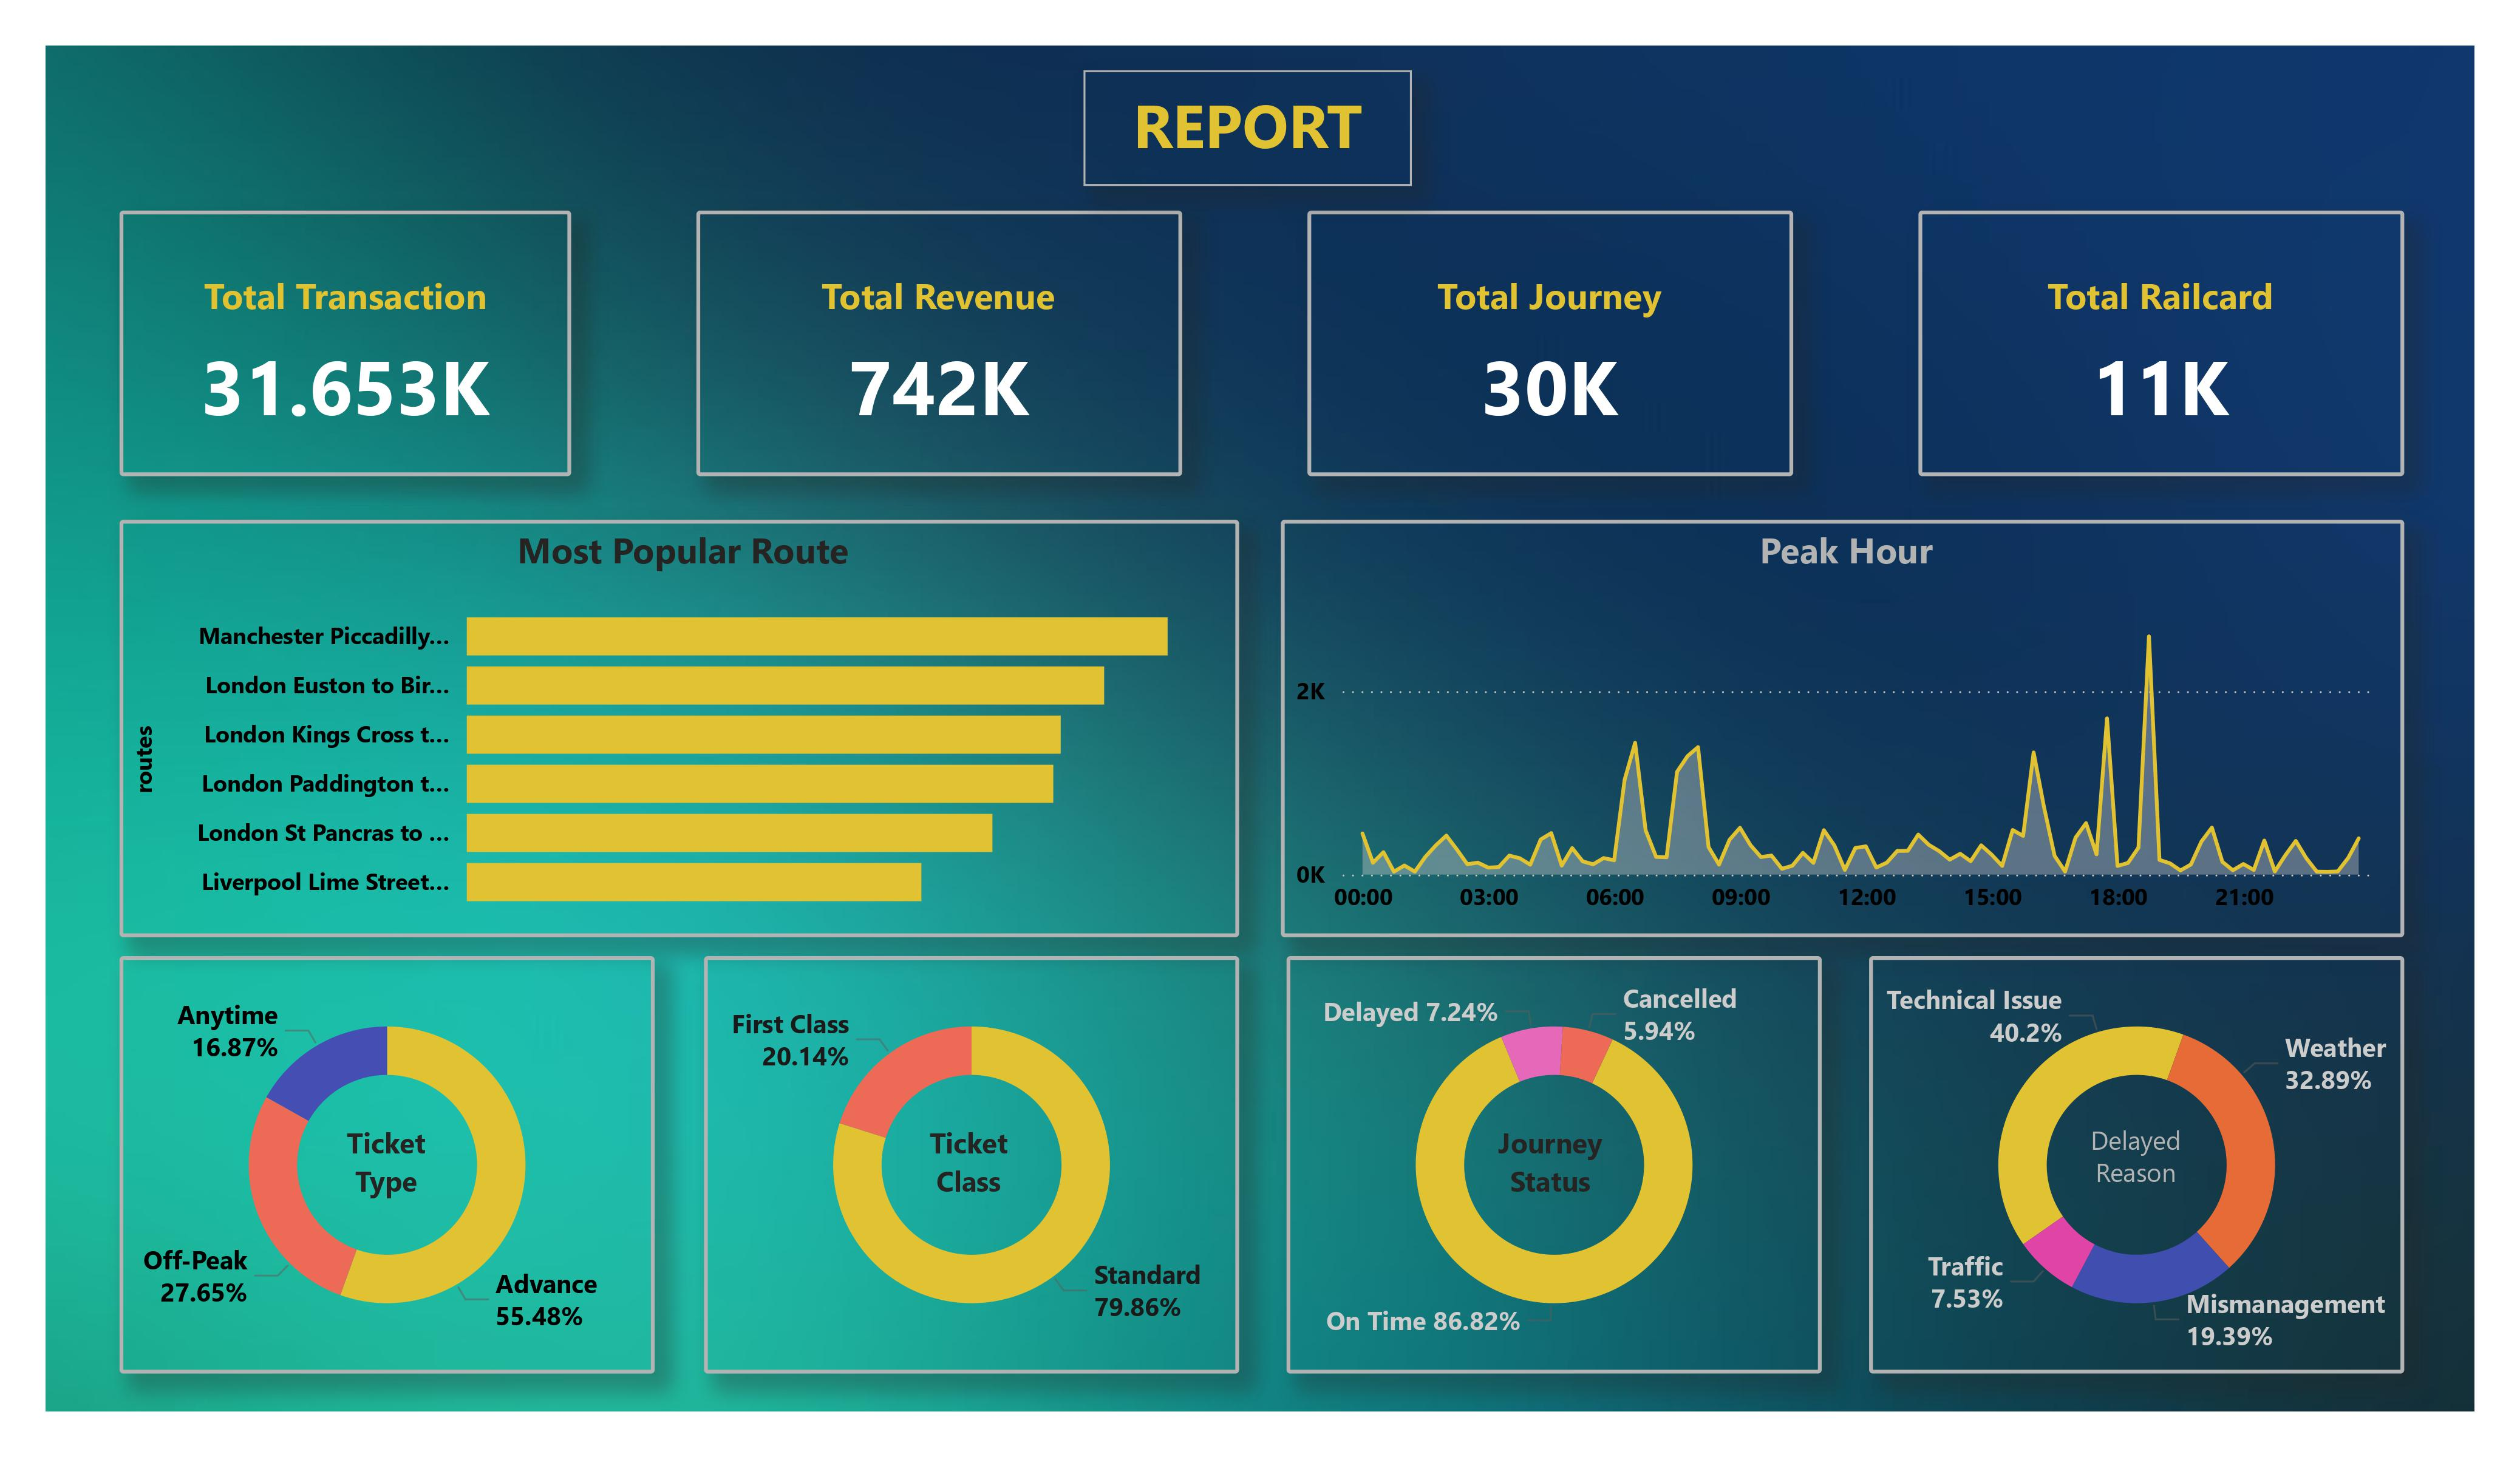

This screenshot's page, from the dashboard's own definition file:
{"tool":"powerbi","page":{"name":"Page 2","canvas":[1280,720],"ordinal":0},"visuals":[{"type":"cardVisual","fields":{"Data":["CountNonNull(railway.Journey_Status)"]},"box":[38.6,87.1,238.6,140],"z":0},{"type":"cardVisual","fields":{"Data":["Sum(railway.Price)"]},"box":[343.3,87.1,255.7,140],"z":1},{"type":"cardVisual","fields":{"Data":["railway.status"]},"box":[665.2,87.1,255.7,140],"z":2},{"type":"cardVisual","fields":{"Data":["railway.rail"]},"box":[987.1,87.1,255.7,140],"z":3},{"type":"clusteredBarChart","title":"Most Popular Route","fields":{"Category":["railway.routes"],"Y":["CountNonNull(railway.Transaction_ID)"]},"box":[38.6,250,590,220],"z":4},{"type":"areaChart","title":"Peak Hour","fields":{"Category":["railway.Departure_Time"],"Y":["CountNonNull(railway.Transaction_ID)"]},"box":[651.4,250,591.4,220],"z":5},{"type":"donutChart","title":"Ticket Type","fields":{"Category":["railway.Ticket_Type"],"Y":["CountNonNull(railway.Transaction_ID)"]},"box":[38.6,480,282.9,220],"z":6},{"type":"donutChart","title":"Ticket Type","fields":{"Category":["railway.Ticket_Class"],"Y":["railway.Total revenue"]},"box":[346.8,480,282,220],"z":7},{"type":"donutChart","title":"Ticket Type","fields":{"Y":["CountNonNull(railway.Transaction_ID)"],"Category":["railway.Journey_Status"]},"box":[654.1,480,282,220],"z":8},{"type":"donutChart","title":"Ticket Type","fields":{"Category":["railway.Reason_for_Delay (groups)"],"Y":["CountNonNull(railway.Transaction_ID)"]},"box":[961.4,480,281.4,220],"z":9},{"type":"textbox","box":[547.1,12.9,172.9,61.4],"z":10},{"type":"textbox","box":[150,562.9,58.6,54.3],"z":11},{"type":"textbox","box":[457.1,562.9,58.6,54.3],"z":12},{"type":"textbox","box":[755.7,562.9,74.3,54.3],"z":13},{"type":"textbox","box":[1064.3,562.9,74.3,54.3],"z":14}]}

Visuals, with their boxes in screenshot pixels (x1, y1, x2, y2):
cardVisual - CountNonNull(railway.Journey_Status): x1=119 y1=211 x2=571 y2=477
cardVisual - Sum(railway.Price): x1=697 y1=211 x2=1182 y2=477
cardVisual - railway.status: x1=1308 y1=211 x2=1793 y2=477
cardVisual - railway.rail: x1=1919 y1=211 x2=2404 y2=477
"Most Popular Route" clusteredBarChart: x1=119 y1=520 x2=1238 y2=937
"Peak Hour" areaChart: x1=1282 y1=520 x2=2404 y2=937
"Ticket Type" donutChart: x1=119 y1=956 x2=656 y2=1373
"Ticket Type" donutChart: x1=704 y1=956 x2=1239 y2=1373
"Ticket Type" donutChart: x1=1287 y1=956 x2=1822 y2=1373
"Ticket Type" donutChart: x1=1870 y1=956 x2=2404 y2=1373
textbox: x1=1084 y1=70 x2=1412 y2=186
textbox: x1=330 y1=1113 x2=441 y2=1217
textbox: x1=913 y1=1113 x2=1024 y2=1217
textbox: x1=1480 y1=1113 x2=1621 y2=1217
textbox: x1=2065 y1=1113 x2=2206 y2=1217
